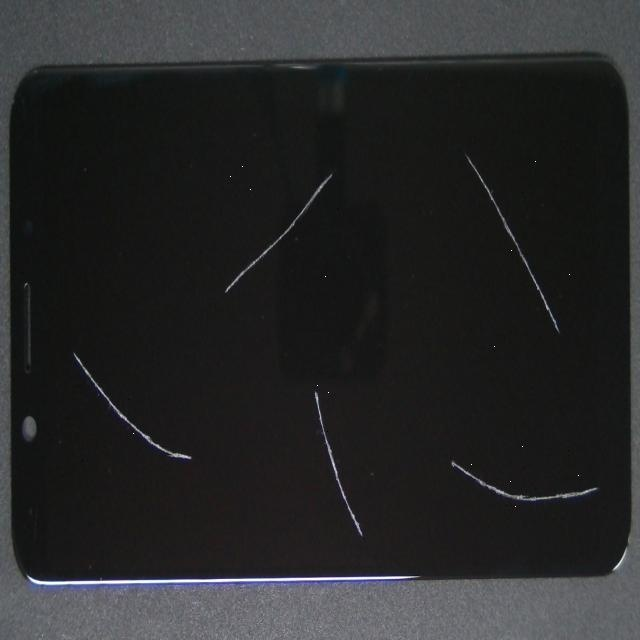scratch: (227, 195, 640, 640), (125, 130, 480, 640), (167, 0, 640, 334), (44, 170, 376, 410), (107, 256, 184, 586)
